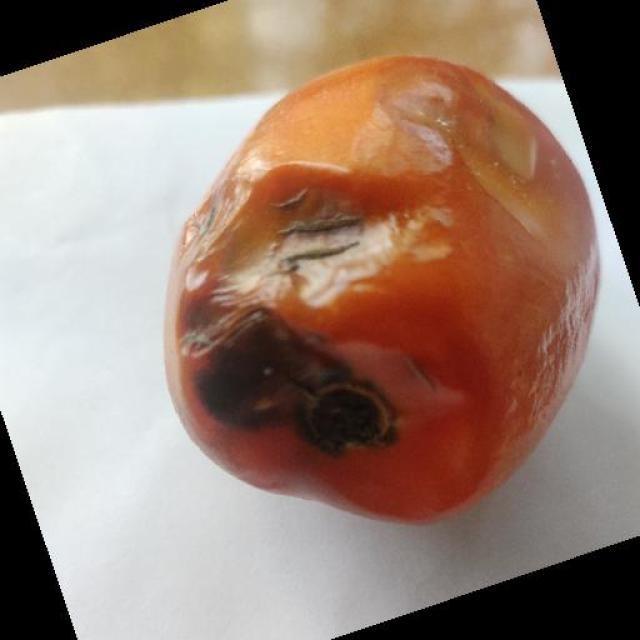Stale_tomato: (158, 86, 586, 530)
